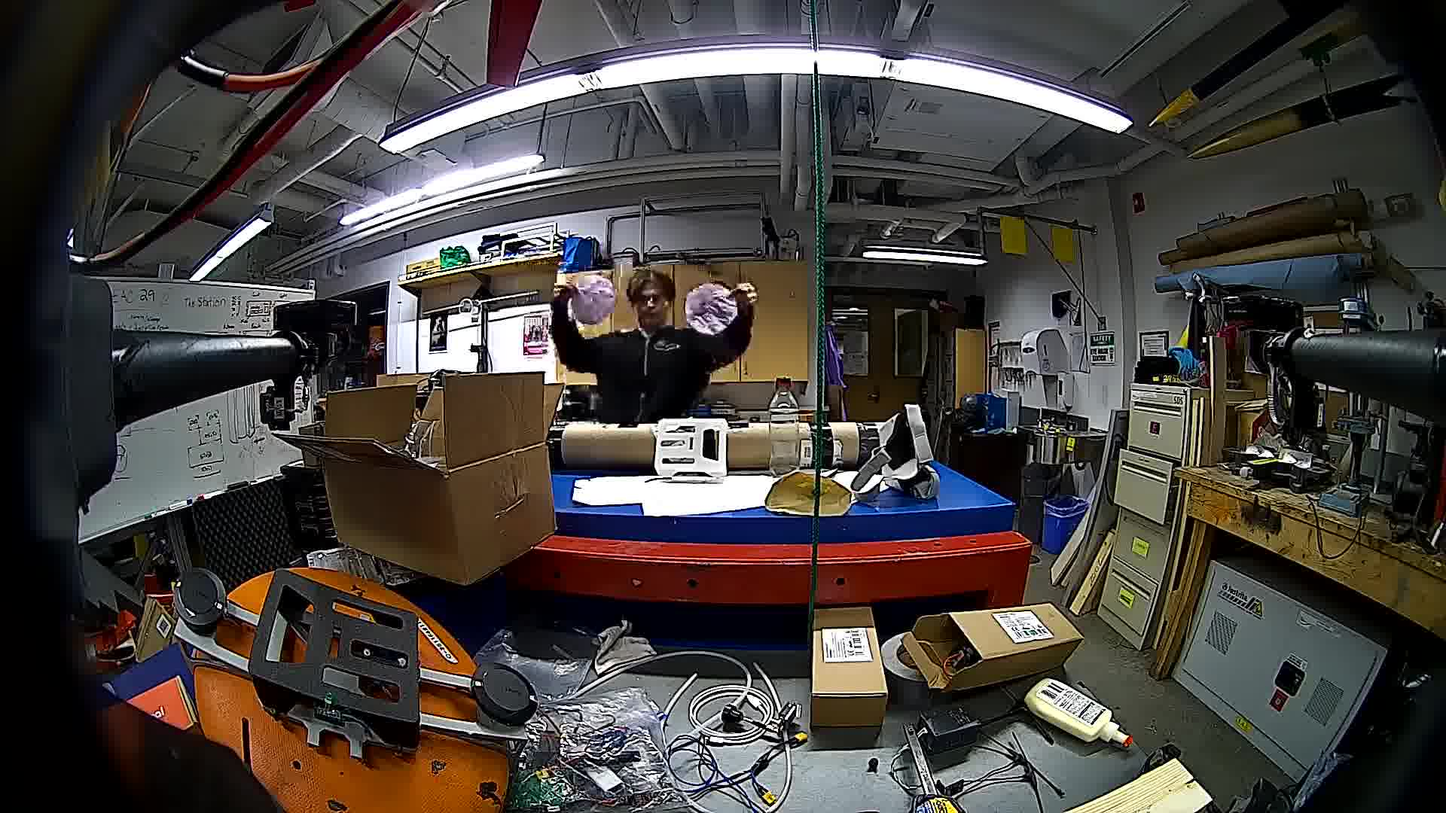Target: (684, 283, 737, 336), (571, 275, 616, 325)
